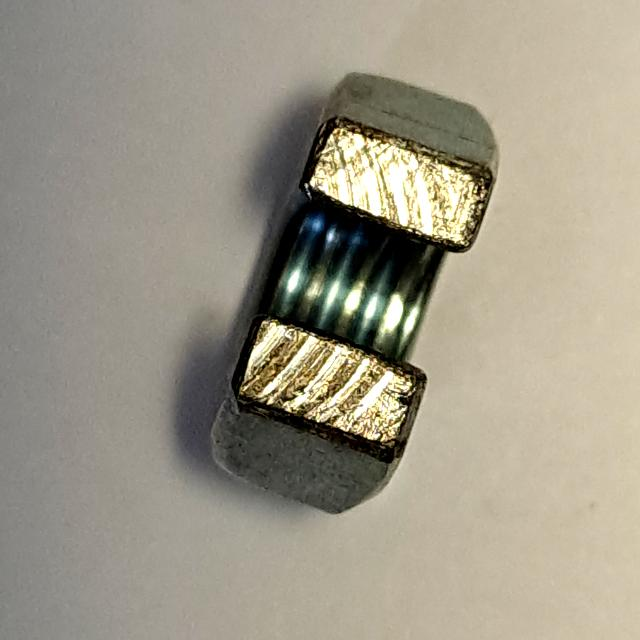Side-Fracture: (190, 64, 514, 533)
